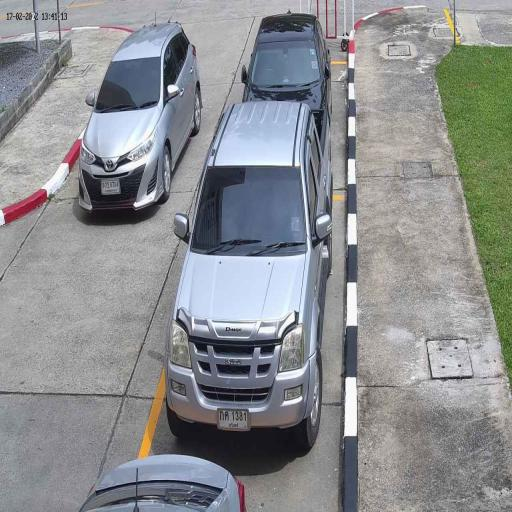car: (164, 98, 336, 445), (76, 20, 202, 218), (74, 452, 250, 512), (240, 10, 333, 107)
